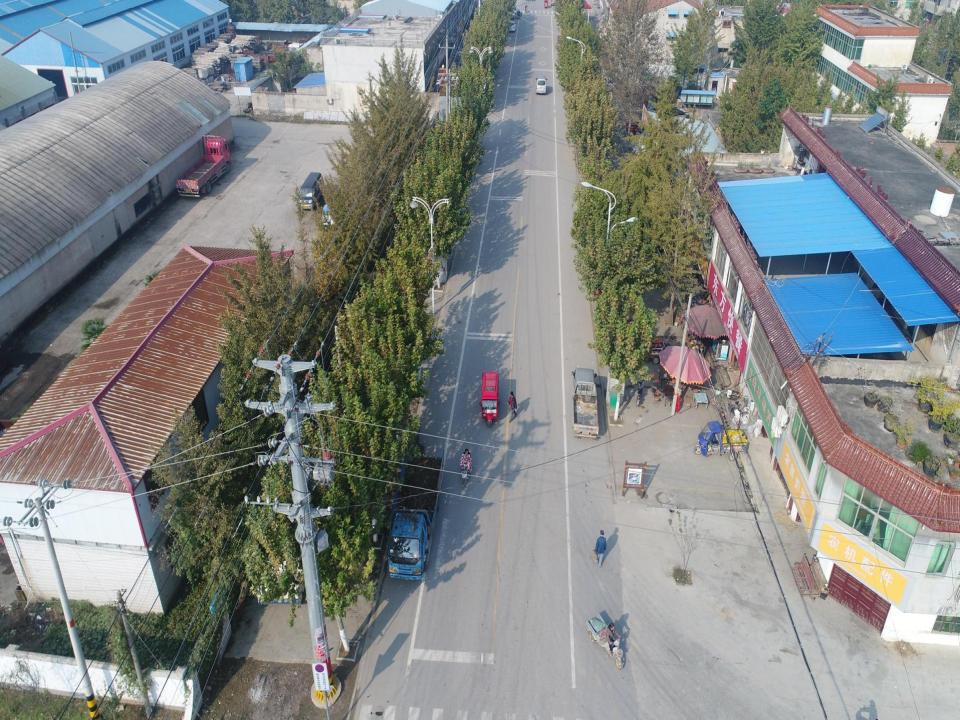car: (508, 21, 516, 32)
truck: (386, 453, 445, 582), (176, 134, 232, 199), (570, 366, 601, 440)
van: (298, 172, 324, 212), (534, 77, 546, 97)
